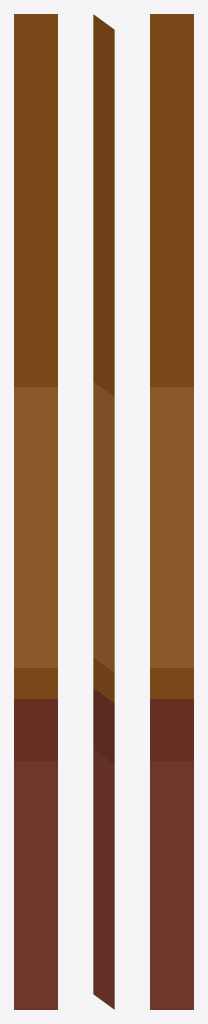
3 renders of one model, left to right at view 1: azimuth 90°, elevation 25°; view 2: azimuth 210°, elevation 25°; view 3: azimuth 270°, elevation 25°, orthographic.
Size of the model in its own units: 0 by 3.12 by 0.125.
1 material, 1 textured.
